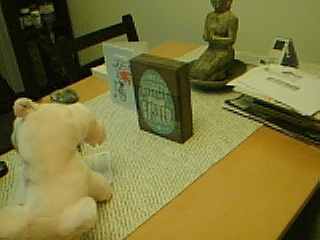piggy: (1, 95, 114, 240)
